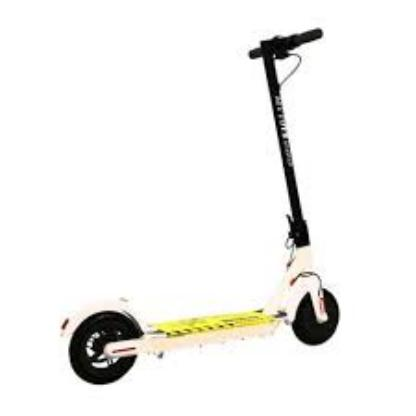bike: (60, 23, 341, 385), (58, 217, 342, 386)
